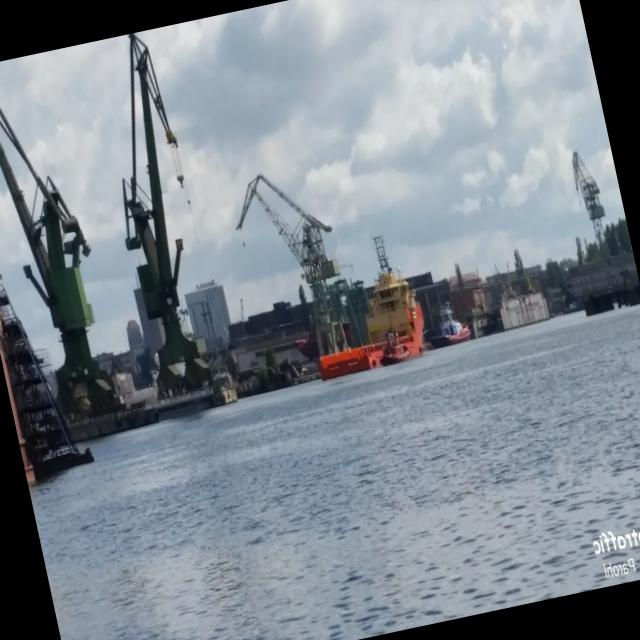Offshore: (319, 267, 424, 379)
Tug: (381, 334, 411, 365)
